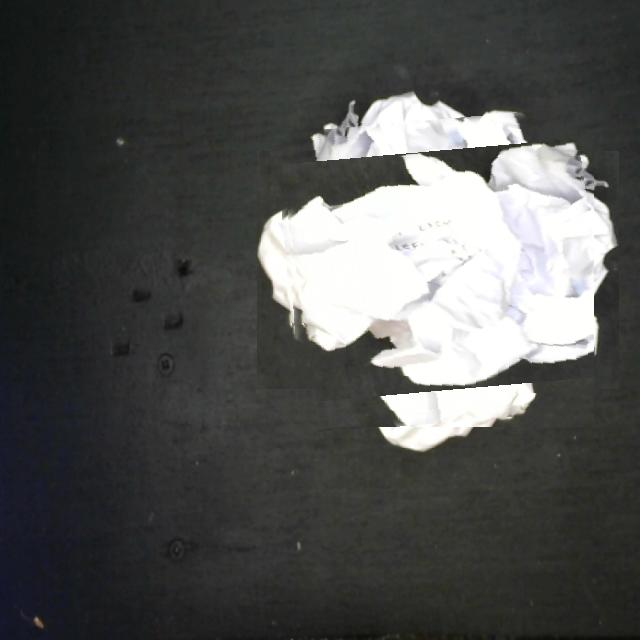biodegradable: (282, 114, 594, 427)
